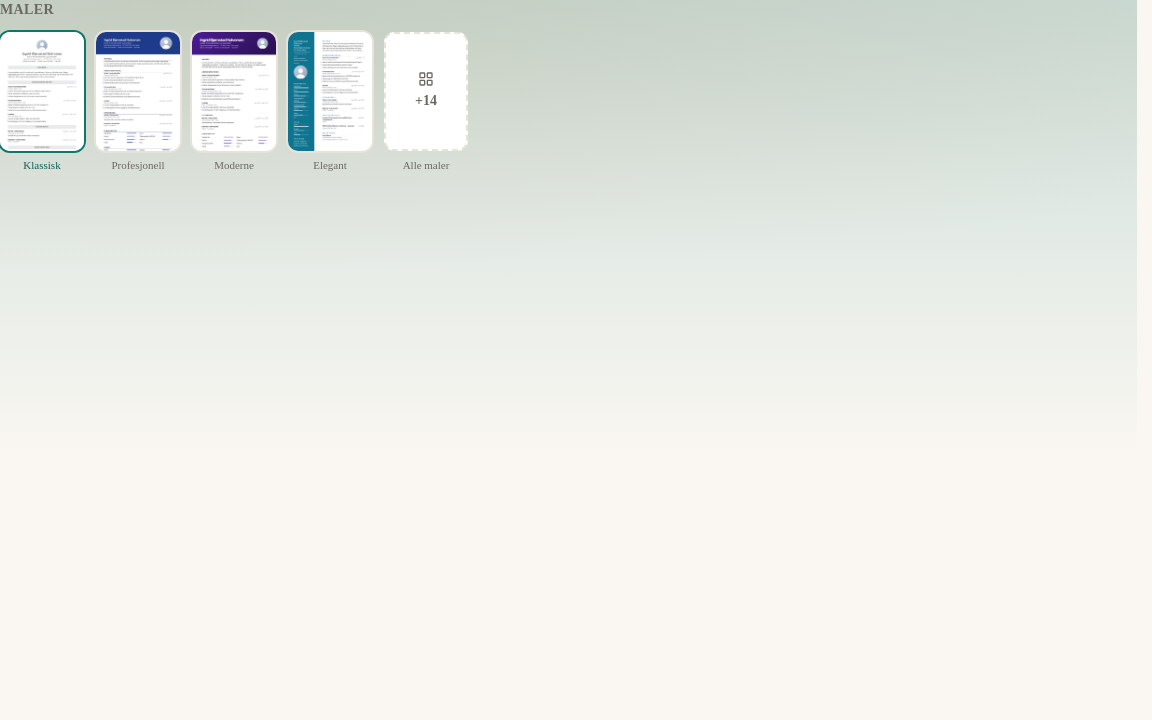
Test case: TemplateStrip › opens every template in a dialog
Click the button "+14": [426, 91] box [384, 32, 468, 151]
(page scrolled)
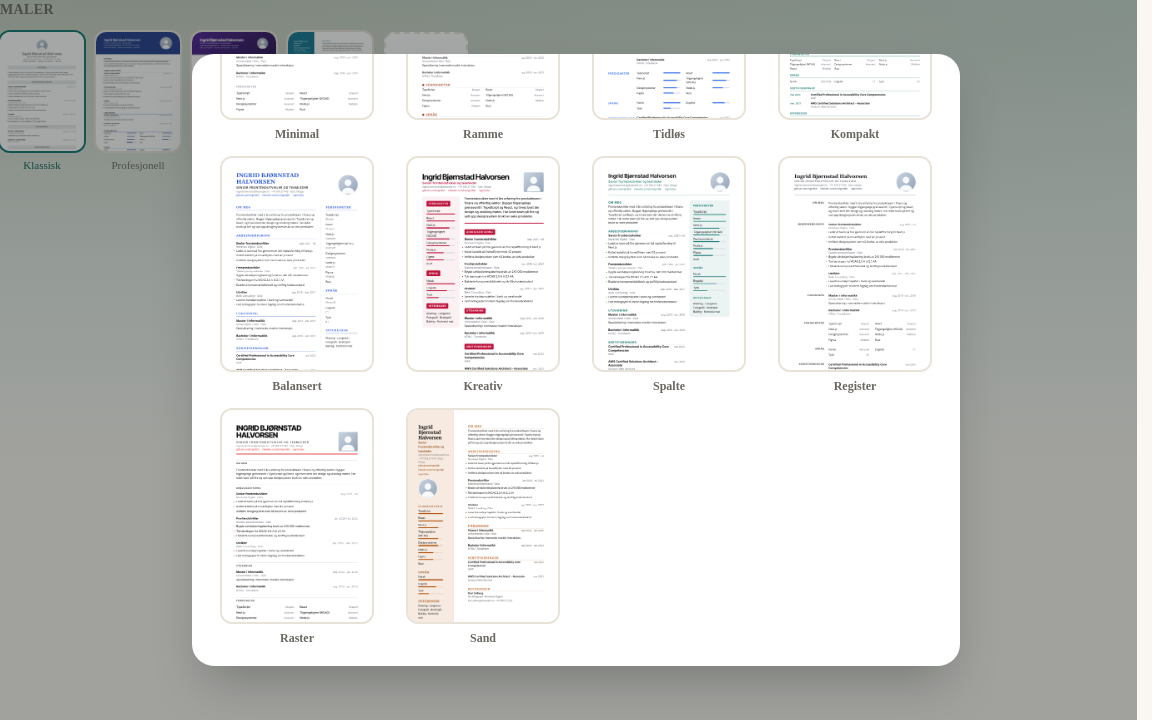
expect the button named "Balansert" is shown: met, box [222, 158, 372, 370]
expect the button named "Kreativ" is shown: met, box [408, 158, 558, 370]
expect the button named "Spalte" is shown: met, box [594, 158, 744, 370]
